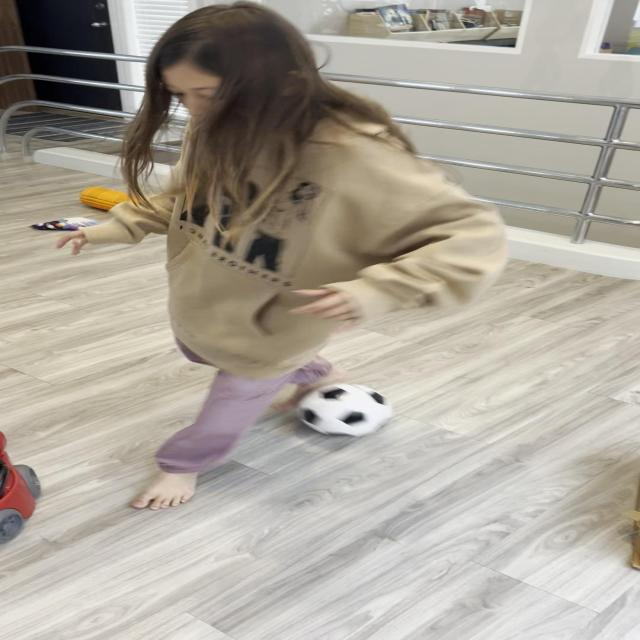Soccer Ball: (295, 382, 394, 438)
